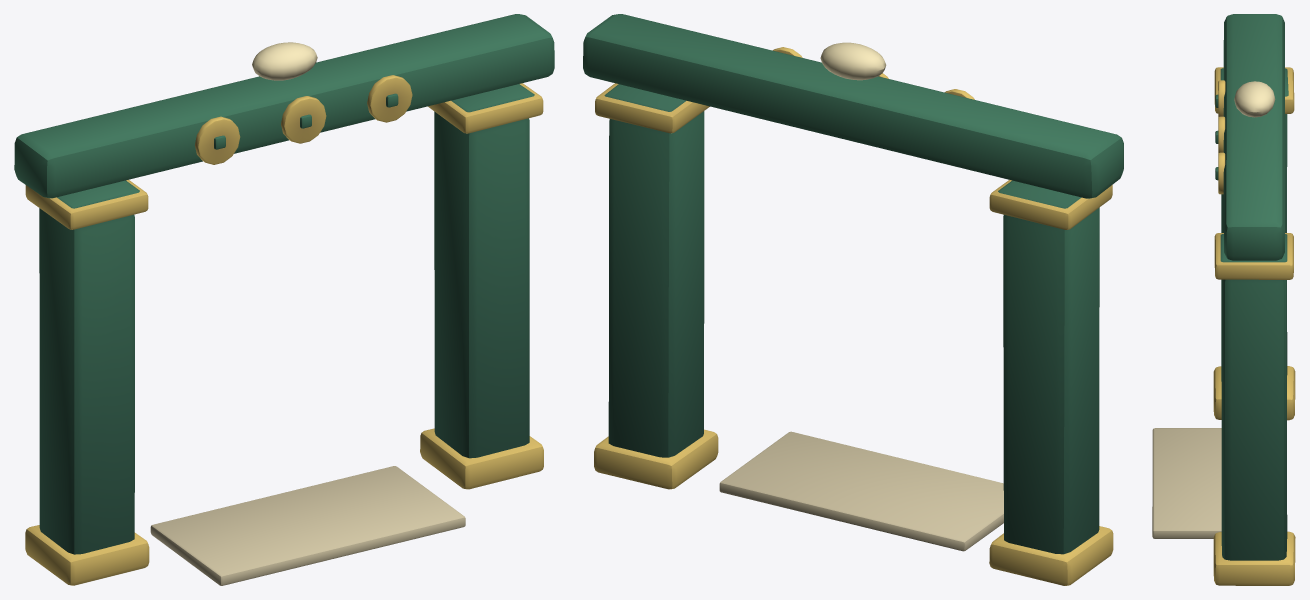
3 views of the same model, side by side, from view 1: azimuth 30°, elevation 25°; view 2: azimuth 150°, elevation 25°; view 3: azimuth 270°, elevation 25° (orthographic). The views are drawn at different scales.
Visible parts, largest first — view 1: gate_23789463; view 2: gate_23789463; view 3: gate_23789463.
Part boxes in pixels (<box>): gate_23789463: <box>14,14,554,585</box>; gate_23789463: <box>583,14,1123,585</box>; gate_23789463: <box>1152,14,1295,585</box>.
Bounding box in the file's own units: 5.01 × 4.36 × 1.41.
